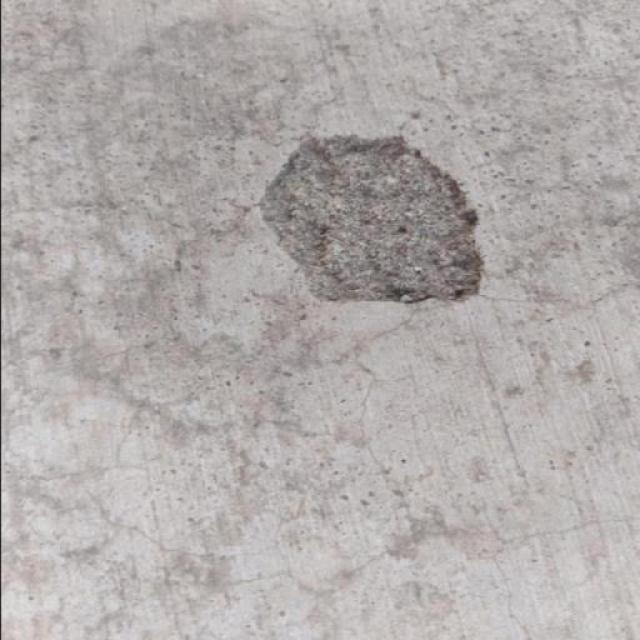D10: (258, 134, 484, 305)
